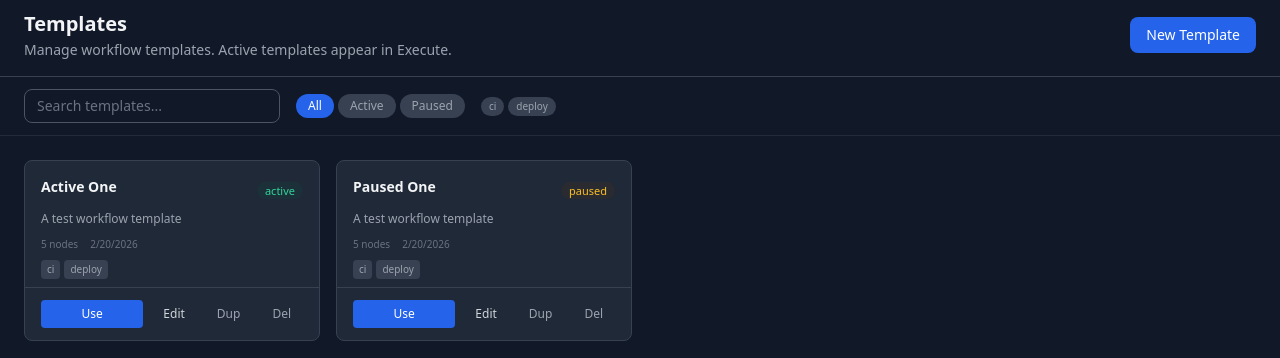
Test: TemplateManagerPage › status filter › filters to show only active templates when "Active" is clicked
Check: the heading "Active One" is shown, box [41,177,117,196]
Click the button "Active" at (367, 106), box [338,94,396,118]
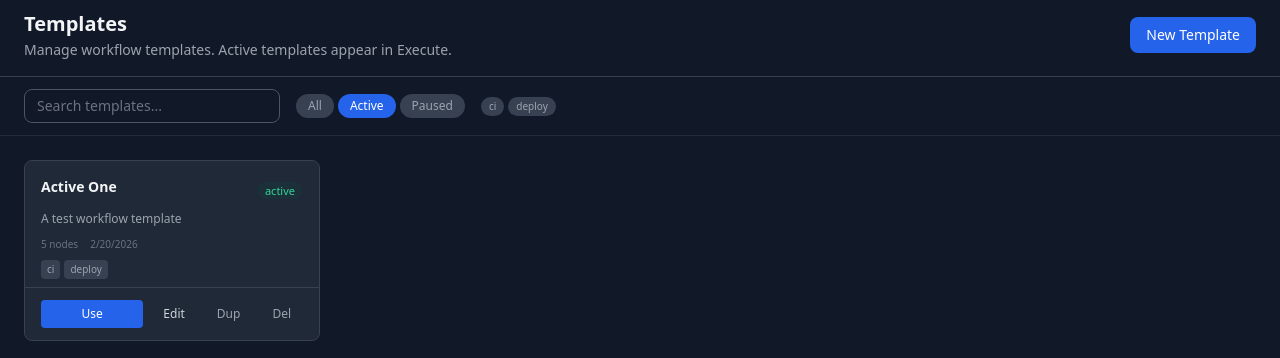
Check: the heading "Active One" is shown, box [41,177,117,196]
Check: the heading "Paused One" is gone
